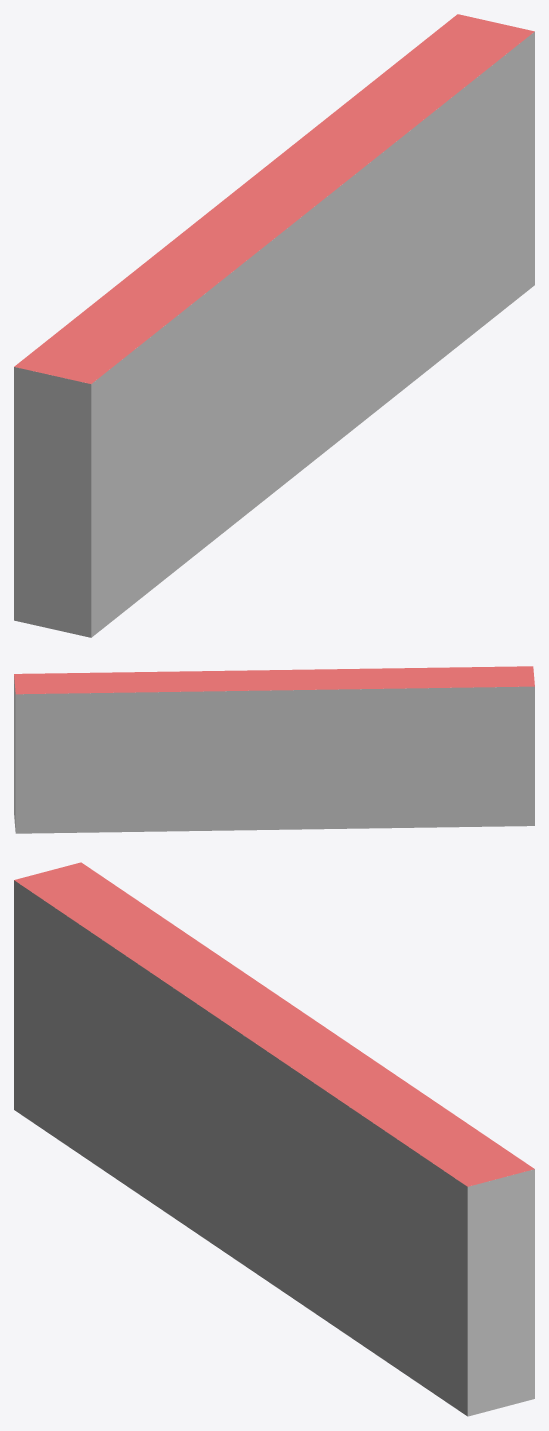
The picture shows the model from 3 angles, top to bottom: view 1: azimuth 30°, elevation 25°; view 2: azimuth 150°, elevation 25°; view 3: azimuth 270°, elevation 25°; orthographic projection. The views are drawn at different scales.
Visible parts, largest first — view 1: Z_UP; view 2: Z_UP; view 3: Z_UP.
Part boxes in pixels (bbox=[...]): Z_UP: bbox=[14, 14, 534, 637]; Z_UP: bbox=[14, 666, 534, 833]; Z_UP: bbox=[14, 862, 534, 1416].
Size of the model in its own units: 48.44 by 15.99 by 32.86.
